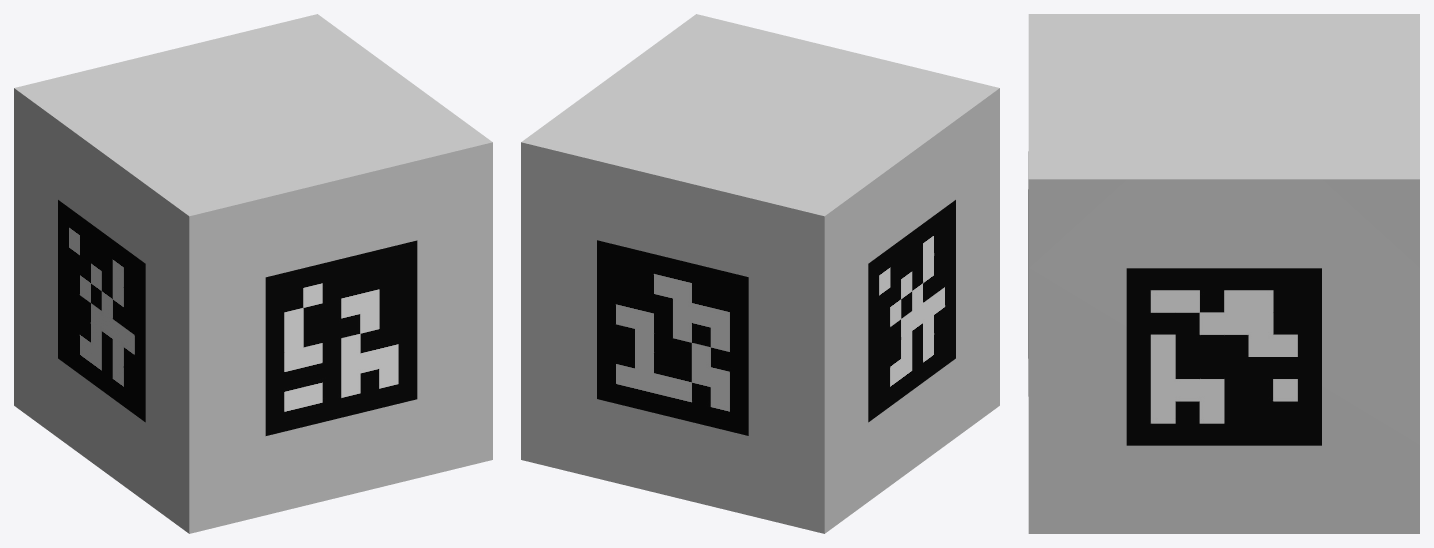
File: minik2_old.dae
3 renders of one model, left to right at view 1: azimuth 30°, elevation 25°; view 2: azimuth 150°, elevation 25°; view 3: azimuth 270°, elevation 25°, orthographic. The views are drawn at different scales.
Visible parts, largest first — view 1: Cube; view 2: Cube; view 3: Cube.
Part boxes in pixels (box(x1,y1,x2,y2)): Cube: box(14, 14, 492, 533); Cube: box(521, 14, 999, 533); Cube: box(1028, 14, 1419, 533).
Size of the model in its own units: 0.601 by 0.601 by 0.6.
5 materials, 4 textured.
